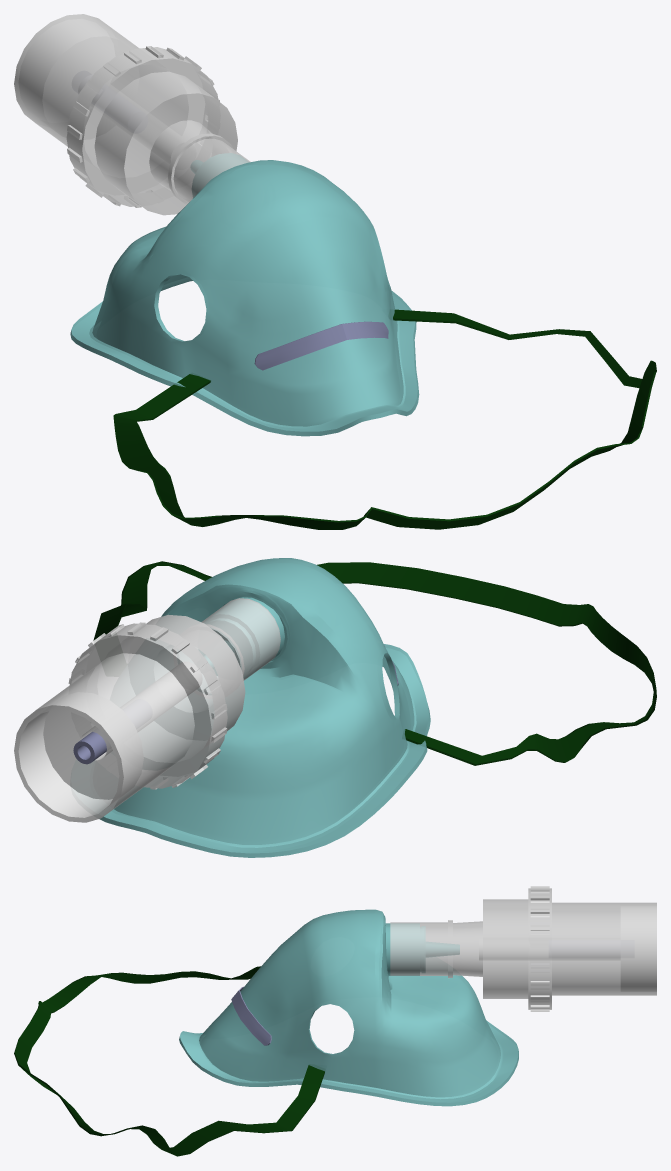
File: maskkhidung_trongxe.fbx
3 views of the same model, one above another, from view 1: azimuth 30°, elevation 25°; view 2: azimuth 150°, elevation 25°; view 3: azimuth 270°, elevation 25° (orthographic). The views are drawn at different scales.
Visible parts, largest first — view 1: pasted__mask, pasted__ongkhidung, pasted__day, pasted__pCylinder1; view 2: pasted__mask, pasted__ongkhidung, pasted__day, pasted__pCylinder1, pasted__ongtrang; view 3: pasted__mask, pasted__ongkhidung, pasted__day, pasted__pCylinder1, pasted__ongtrang.
Boxes of the visible parts, box(x1,y1,x2,y2) form: pasted__mask: box(70, 160, 419, 436); pasted__ongkhidung: box(14, 14, 250, 215); pasted__day: box(113, 309, 656, 529); pasted__pCylinder1: box(192, 153, 248, 197); pasted__mask: box(99, 558, 430, 857); pasted__ongkhidung: box(14, 598, 280, 822); pasted__day: box(93, 561, 656, 765); pasted__pCylinder1: box(204, 597, 287, 678); pasted__ongtrang: box(198, 618, 255, 675); pasted__mask: box(179, 909, 518, 1106); pasted__ongkhidung: box(390, 886, 656, 1011); pasted__day: box(14, 966, 324, 1156); pasted__pCylinder1: box(385, 923, 419, 975); pasted__ongtrang: box(420, 926, 459, 972).
Size of the model in its own units: 6.03 by 2.62 by 8.87.
